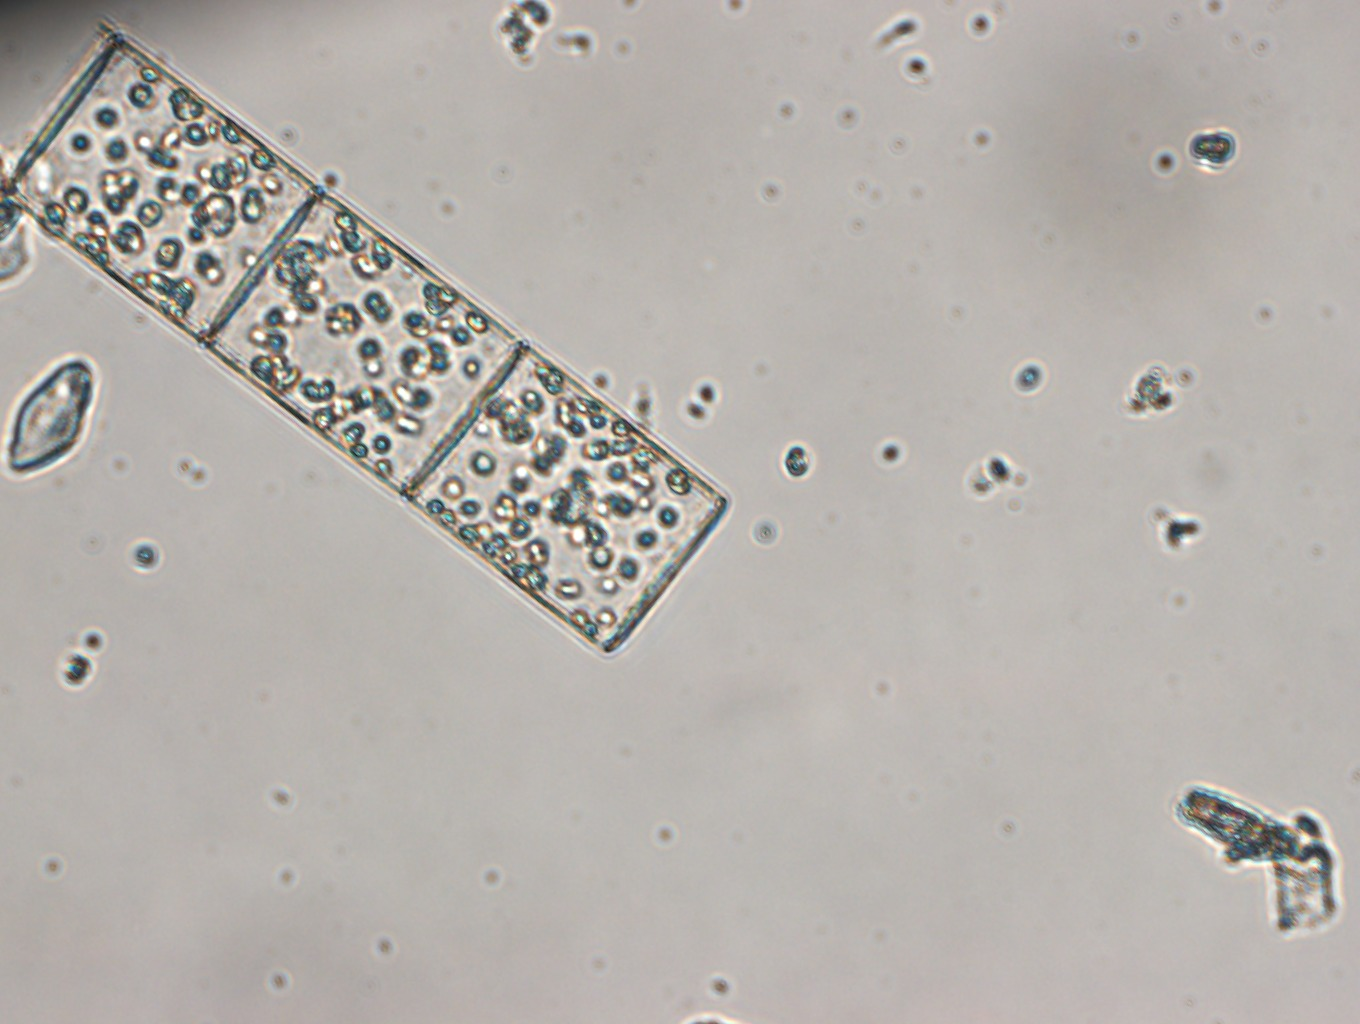guinardia flaccida: (8, 24, 732, 657)
